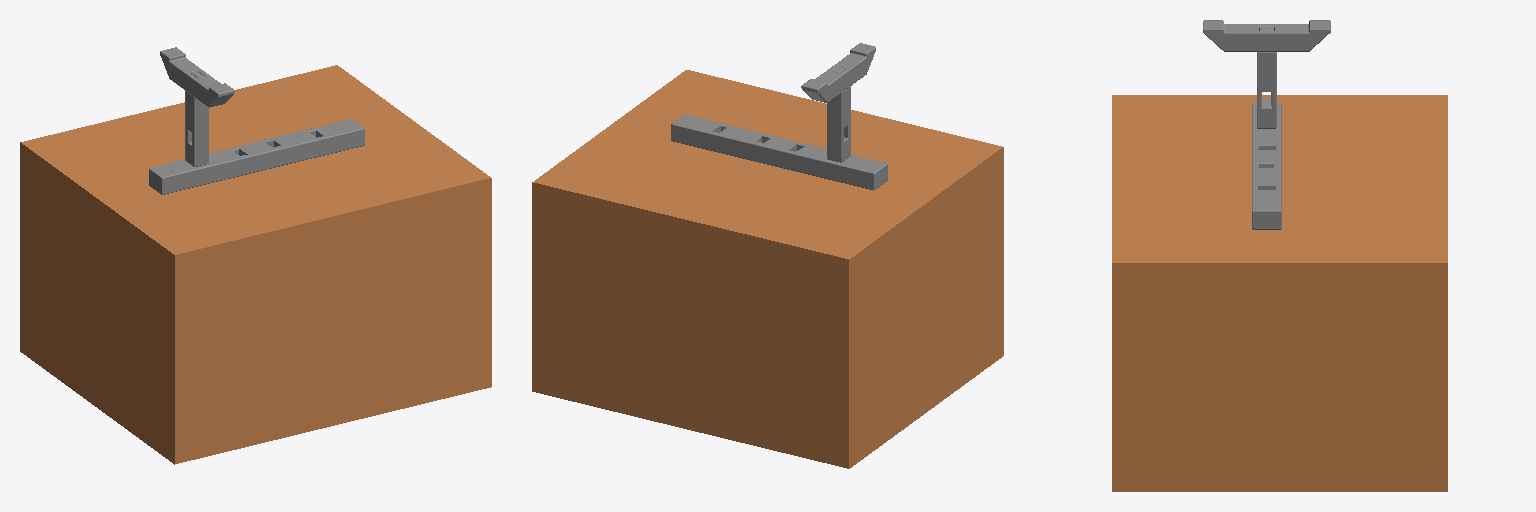
The robot description file, URDF, robot "table_beam_2x_3_scene_0060":
<?xml version="1.0"?>
<robot name="table_beam_2x_3_scene_0060">
  <link name="box">
    <visual>
      <material name="wood"><color rgba="0.82 0.56 0.35 1.0"/></material>
      <origin xyz="0 0 0"/>
      <geometry><box size="0.475 0.4 0.3"/></geometry>
    </visual>
    <collision>
      <origin xyz="0 0 0"/>
      <geometry><box size="0.475 0.4 0.3"/></geometry>
    </collision>
    <inertial>
      <mass value="500"/>
      <friction value="1.0"/>
      <inertia ixx="1000.0" ixy="0.0" ixz="0.0" iyy="1000.0" iyz="0.0" izz="1000.0"/>
    </inertial>
  </link>
  <link name="part_6_hull_0">
    <visual>
      <origin xyz="0 0 0" rpy="0 0 0"/>
      <geometry><mesh filename="../../6/coacd/decomp_0.obj" scale="1 1 1"/></geometry>
      <material name="placed_0"><color rgba="0.6 0.6 0.6 1.0"/></material>
    </visual>
    <collision>
      <origin xyz="0 0 0" rpy="0 0 0"/>
      <geometry><mesh filename="../../6/coacd/decomp_0.obj" scale="1 1 1"/></geometry>
    </collision>
  </link>
  <joint name="part_6_hull_0_joint" type="fixed">
    <parent link="box"/>
    <child link="part_6_hull_0"/>
    <origin xyz="-0.008155 -0.015868 0.162666" rpy="0.000000 0.000000 0.000000"/>
  </joint>
  <link name="part_6_hull_1">
    <visual>
      <origin xyz="0 0 0" rpy="0 0 0"/>
      <geometry><mesh filename="../../6/coacd/decomp_1.obj" scale="1 1 1"/></geometry>
      <material name="placed_1"><color rgba="0.6 0.6 0.6 1.0"/></material>
    </visual>
    <collision>
      <origin xyz="0 0 0" rpy="0 0 0"/>
      <geometry><mesh filename="../../6/coacd/decomp_1.obj" scale="1 1 1"/></geometry>
    </collision>
  </link>
  <joint name="part_6_hull_1_joint" type="fixed">
    <parent link="box"/>
    <child link="part_6_hull_1"/>
    <origin xyz="-0.008155 -0.015868 0.162666" rpy="0.000000 0.000000 0.000000"/>
  </joint>
  <link name="part_6_hull_2">
    <visual>
      <origin xyz="0 0 0" rpy="0 0 0"/>
      <geometry><mesh filename="../../6/coacd/decomp_10.obj" scale="1 1 1"/></geometry>
      <material name="placed_2"><color rgba="0.6 0.6 0.6 1.0"/></material>
    </visual>
    <collision>
      <origin xyz="0 0 0" rpy="0 0 0"/>
      <geometry><mesh filename="../../6/coacd/decomp_10.obj" scale="1 1 1"/></geometry>
    </collision>
  </link>
  <joint name="part_6_hull_2_joint" type="fixed">
    <parent link="box"/>
    <child link="part_6_hull_2"/>
    <origin xyz="-0.008155 -0.015868 0.162666" rpy="0.000000 0.000000 0.000000"/>
  </joint>
  <link name="part_6_hull_3">
    <visual>
      <origin xyz="0 0 0" rpy="0 0 0"/>
      <geometry><mesh filename="../../6/coacd/decomp_11.obj" scale="1 1 1"/></geometry>
      <material name="placed_3"><color rgba="0.6 0.6 0.6 1.0"/></material>
    </visual>
    <collision>
      <origin xyz="0 0 0" rpy="0 0 0"/>
      <geometry><mesh filename="../../6/coacd/decomp_11.obj" scale="1 1 1"/></geometry>
    </collision>
  </link>
  <joint name="part_6_hull_3_joint" type="fixed">
    <parent link="box"/>
    <child link="part_6_hull_3"/>
    <origin xyz="-0.008155 -0.015868 0.162666" rpy="0.000000 0.000000 0.000000"/>
  </joint>
  <link name="part_6_hull_4">
    <visual>
      <origin xyz="0 0 0" rpy="0 0 0"/>
      <geometry><mesh filename="../../6/coacd/decomp_12.obj" scale="1 1 1"/></geometry>
      <material name="placed_4"><color rgba="0.6 0.6 0.6 1.0"/></material>
    </visual>
    <collision>
      <origin xyz="0 0 0" rpy="0 0 0"/>
      <geometry><mesh filename="../../6/coacd/decomp_12.obj" scale="1 1 1"/></geometry>
    </collision>
  </link>
  <joint name="part_6_hull_4_joint" type="fixed">
    <parent link="box"/>
    <child link="part_6_hull_4"/>
    <origin xyz="-0.008155 -0.015868 0.162666" rpy="0.000000 0.000000 0.000000"/>
  </joint>
  <link name="part_6_hull_5">
    <visual>
      <origin xyz="0 0 0" rpy="0 0 0"/>
      <geometry><mesh filename="../../6/coacd/decomp_13.obj" scale="1 1 1"/></geometry>
      <material name="placed_5"><color rgba="0.6 0.6 0.6 1.0"/></material>
    </visual>
    <collision>
      <origin xyz="0 0 0" rpy="0 0 0"/>
      <geometry><mesh filename="../../6/coacd/decomp_13.obj" scale="1 1 1"/></geometry>
    </collision>
  </link>
  <joint name="part_6_hull_5_joint" type="fixed">
    <parent link="box"/>
    <child link="part_6_hull_5"/>
    <origin xyz="-0.008155 -0.015868 0.162666" rpy="0.000000 0.000000 0.000000"/>
  </joint>
  <link name="part_6_hull_6">
    <visual>
      <origin xyz="0 0 0" rpy="0 0 0"/>
      <geometry><mesh filename="../../6/coacd/decomp_2.obj" scale="1 1 1"/></geometry>
      <material name="placed_6"><color rgba="0.6 0.6 0.6 1.0"/></material>
    </visual>
    <collision>
      <origin xyz="0 0 0" rpy="0 0 0"/>
      <geometry><mesh filename="../../6/coacd/decomp_2.obj" scale="1 1 1"/></geometry>
    </collision>
  </link>
  <joint name="part_6_hull_6_joint" type="fixed">
    <parent link="box"/>
    <child link="part_6_hull_6"/>
    <origin xyz="-0.008155 -0.015868 0.162666" rpy="0.000000 0.000000 0.000000"/>
  </joint>
  <link name="part_6_hull_7">
    <visual>
      <origin xyz="0 0 0" rpy="0 0 0"/>
      <geometry><mesh filename="../../6/coacd/decomp_3.obj" scale="1 1 1"/></geometry>
      <material name="placed_7"><color rgba="0.6 0.6 0.6 1.0"/></material>
    </visual>
    <collision>
      <origin xyz="0 0 0" rpy="0 0 0"/>
      <geometry><mesh filename="../../6/coacd/decomp_3.obj" scale="1 1 1"/></geometry>
    </collision>
  </link>
  <joint name="part_6_hull_7_joint" type="fixed">
    <parent link="box"/>
    <child link="part_6_hull_7"/>
    <origin xyz="-0.008155 -0.015868 0.162666" rpy="0.000000 0.000000 0.000000"/>
  </joint>
  <link name="part_6_hull_8">
    <visual>
      <origin xyz="0 0 0" rpy="0 0 0"/>
      <geometry><mesh filename="../../6/coacd/decomp_4.obj" scale="1 1 1"/></geometry>
      <material name="placed_8"><color rgba="0.6 0.6 0.6 1.0"/></material>
    </visual>
    <collision>
      <origin xyz="0 0 0" rpy="0 0 0"/>
      <geometry><mesh filename="../../6/coacd/decomp_4.obj" scale="1 1 1"/></geometry>
    </collision>
  </link>
  <joint name="part_6_hull_8_joint" type="fixed">
    <parent link="box"/>
    <child link="part_6_hull_8"/>
    <origin xyz="-0.008155 -0.015868 0.162666" rpy="0.000000 0.000000 0.000000"/>
  </joint>
  <link name="part_6_hull_9">
    <visual>
      <origin xyz="0 0 0" rpy="0 0 0"/>
      <geometry><mesh filename="../../6/coacd/decomp_5.obj" scale="1 1 1"/></geometry>
      <material name="placed_9"><color rgba="0.6 0.6 0.6 1.0"/></material>
    </visual>
    <collision>
      <origin xyz="0 0 0" rpy="0 0 0"/>
      <geometry><mesh filename="../../6/coacd/decomp_5.obj" scale="1 1 1"/></geometry>
    </collision>
  </link>
  <joint name="part_6_hull_9_joint" type="fixed">
    <parent link="box"/>
    <child link="part_6_hull_9"/>
    <origin xyz="-0.008155 -0.015868 0.162666" rpy="0.000000 0.000000 0.000000"/>
  </joint>
  <link name="part_6_hull_10">
    <visual>
      <origin xyz="0 0 0" rpy="0 0 0"/>
      <geometry><mesh filename="../../6/coacd/decomp_6.obj" scale="1 1 1"/></geometry>
      <material name="placed_10"><color rgba="0.6 0.6 0.6 1.0"/></material>
    </visual>
    <collision>
      <origin xyz="0 0 0" rpy="0 0 0"/>
      <geometry><mesh filename="../../6/coacd/decomp_6.obj" scale="1 1 1"/></geometry>
    </collision>
  </link>
  <joint name="part_6_hull_10_joint" type="fixed">
    <parent link="box"/>
    <child link="part_6_hull_10"/>
    <origin xyz="-0.008155 -0.015868 0.162666" rpy="0.000000 0.000000 0.000000"/>
  </joint>
  <link name="part_6_hull_11">
    <visual>
      <origin xyz="0 0 0" rpy="0 0 0"/>
      <geometry><mesh filename="../../6/coacd/decomp_7.obj" scale="1 1 1"/></geometry>
      <material name="placed_11"><color rgba="0.6 0.6 0.6 1.0"/></material>
    </visual>
    <collision>
      <origin xyz="0 0 0" rpy="0 0 0"/>
      <geometry><mesh filename="../../6/coacd/decomp_7.obj" scale="1 1 1"/></geometry>
    </collision>
  </link>
  <joint name="part_6_hull_11_joint" type="fixed">
    <parent link="box"/>
    <child link="part_6_hull_11"/>
    <origin xyz="-0.008155 -0.015868 0.162666" rpy="0.000000 0.000000 0.000000"/>
  </joint>
  <link name="part_6_hull_12">
    <visual>
      <origin xyz="0 0 0" rpy="0 0 0"/>
      <geometry><mesh filename="../../6/coacd/decomp_8.obj" scale="1 1 1"/></geometry>
      <material name="placed_12"><color rgba="0.6 0.6 0.6 1.0"/></material>
    </visual>
    <collision>
      <origin xyz="0 0 0" rpy="0 0 0"/>
      <geometry><mesh filename="../../6/coacd/decomp_8.obj" scale="1 1 1"/></geometry>
    </collision>
  </link>
  <joint name="part_6_hull_12_joint" type="fixed">
    <parent link="box"/>
    <child link="part_6_hull_12"/>
    <origin xyz="-0.008155 -0.015868 0.162666" rpy="0.000000 0.000000 0.000000"/>
  </joint>
  <link name="part_6_hull_13">
    <visual>
      <origin xyz="0 0 0" rpy="0 0 0"/>
      <geometry><mesh filename="../../6/coacd/decomp_9.obj" scale="1 1 1"/></geometry>
      <material name="placed_13"><color rgba="0.6 0.6 0.6 1.0"/></material>
    </visual>
    <collision>
      <origin xyz="0 0 0" rpy="0 0 0"/>
      <geometry><mesh filename="../../6/coacd/decomp_9.obj" scale="1 1 1"/></geometry>
    </collision>
  </link>
  <joint name="part_6_hull_13_joint" type="fixed">
    <parent link="box"/>
    <child link="part_6_hull_13"/>
    <origin xyz="-0.008155 -0.015868 0.162666" rpy="0.000000 0.000000 0.000000"/>
  </joint>
  <link name="part_2_canonical">
    <visual>
      <origin xyz="0 0 0" rpy="0 0 0"/>
      <geometry><mesh filename="../../2/2_canonical.obj" scale="1 1 1"/></geometry>
      <material name="placed_14"><color rgba="0.6 0.6 0.6 1.0"/></material>
    </visual>
    <collision>
      <origin xyz="0 0 0" rpy="0 0 0"/>
      <geometry><mesh filename="../../2/2_canonical.obj" scale="1 1 1"/></geometry>
    </collision>
  </link>
  <joint name="part_2_canonical_joint" type="fixed">
    <parent link="box"/>
    <child link="part_2_canonical"/>
    <origin xyz="-0.097082 -0.015868 0.225384" rpy="0.000000 -1.570796 0.000000"/>
  </joint>
  <link name="part_0_canonical">
    <visual>
      <origin xyz="0 0 0" rpy="0 0 0"/>
      <geometry><mesh filename="../../0/0_canonical.obj" scale="1 1 1"/></geometry>
      <material name="placed_15"><color rgba="0.6 0.6 0.6 1.0"/></material>
    </visual>
    <collision>
      <origin xyz="0 0 0" rpy="0 0 0"/>
      <geometry><mesh filename="../../0/0_canonical.obj" scale="1 1 1"/></geometry>
    </collision>
  </link>
  <joint name="part_0_canonical_joint" type="fixed">
    <parent link="box"/>
    <child link="part_0_canonical"/>
    <origin xyz="-0.097055 -0.015868 0.292243" rpy="1.570796 0.000000 -1.570796"/>
  </joint>
</robot>

--- What the picture shows (computed from the rendered views, not written in the file) ---
The picture shows the robot from 3 angles, left to right: view 1: azimuth 30°, elevation 25°; view 2: azimuth 150°, elevation 25°; view 3: azimuth 270°, elevation 25°; orthographic projection.
Robot: table_beam_2x_3_scene_0060 — 17 links, 16 joints (16 fixed); root link box; default pose: all joints at 0.
Links seen in each view (by area): view 1: box, part_0_canonical, part_2_canonical, part_6_hull_1, part_6_hull_0, part_6_hull_9, part_6_hull_3, part_6_hull_5; view 2: box, part_0_canonical, part_2_canonical, part_6_hull_1, part_6_hull_0, part_6_hull_2, part_6_hull_5, part_6_hull_12; view 3: box, part_0_canonical, part_2_canonical, part_6_hull_0.
Boxes of the visible links, x1,y1,x2,y2 form: box: [20, 65, 491, 464]; part_0_canonical: [160, 47, 234, 107]; part_2_canonical: [185, 71, 208, 166]; part_6_hull_1: [149, 159, 200, 194]; part_6_hull_0: [314, 119, 364, 154]; part_6_hull_9: [198, 155, 249, 185]; part_6_hull_3: [251, 144, 292, 172]; part_6_hull_5: [279, 130, 318, 162]; box: [532, 70, 1003, 468]; part_0_canonical: [801, 43, 875, 102]; part_2_canonical: [827, 67, 850, 162]; part_6_hull_1: [836, 155, 887, 190]; part_6_hull_0: [671, 114, 722, 150]; part_6_hull_2: [793, 147, 831, 179]; part_6_hull_5: [717, 125, 755, 158]; part_6_hull_12: [744, 139, 784, 167]; box: [1112, 95, 1447, 491]; part_0_canonical: [1203, 20, 1330, 51]; part_2_canonical: [1257, 27, 1276, 128]; part_6_hull_0: [1252, 190, 1281, 229].
Bounding box of the posed robot: 0.475 × 0.4 × 0.4575 m (x, y, z).
Meshes: 16 distinct files referenced, 16 mesh visuals loaded (16 OBJ).
